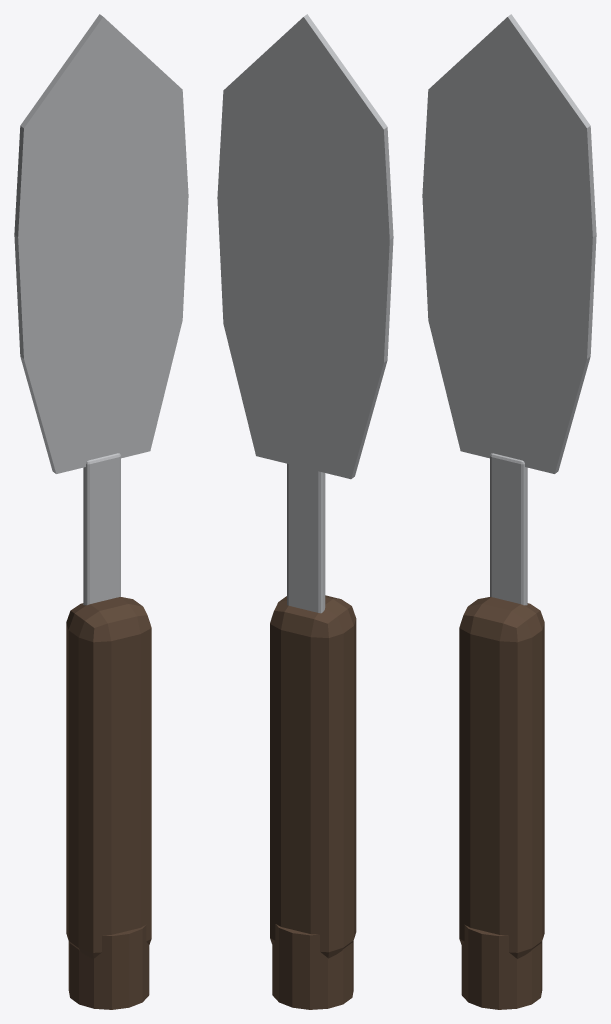
The model's file is TROWEL.glb.
3 views of the same model, side by side, from view 1: azimuth 30°, elevation 25°; view 2: azimuth 150°, elevation 25°; view 3: azimuth 330°, elevation 25° (orthographic).
Parts seen in each view (by area): view 1: TROWEL_blade, TROWEL_handle, TROWEL_tang, TROWEL_end; view 2: TROWEL_blade, TROWEL_handle, TROWEL_tang, TROWEL_end; view 3: TROWEL_blade, TROWEL_handle, TROWEL_tang, TROWEL_end.
Boxes of the visible parts, x1,y1,x2,y2 form: TROWEL_blade: (14, 14, 188, 473); TROWEL_handle: (66, 597, 151, 958); TROWEL_tang: (83, 453, 120, 605); TROWEL_end: (68, 925, 149, 1009); TROWEL_blade: (217, 14, 393, 479); TROWEL_handle: (270, 595, 356, 958); TROWEL_tang: (287, 461, 325, 613); TROWEL_end: (272, 924, 353, 1009); TROWEL_blade: (422, 14, 596, 473); TROWEL_handle: (459, 597, 544, 958); TROWEL_tang: (490, 453, 527, 605); TROWEL_end: (461, 925, 542, 1009).
Bounding box in the file's own units: 0.058 × 0.316 × 0.024.
